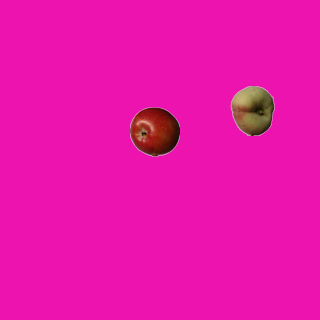Apple Braeburn: (129, 106, 179, 156)
Peach Flat: (227, 85, 277, 135)
